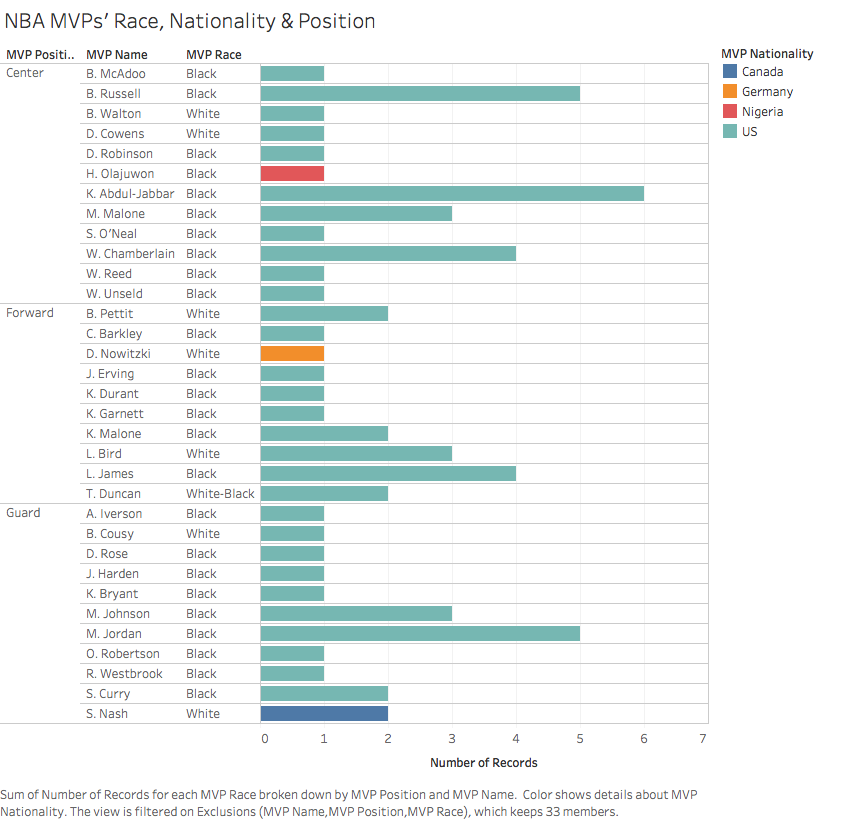

This screenshot's page, from the dashboard's own definition file:
{"tool":"tableau","page":{"name":"Dashboard 1","canvas":[1000,800],"ordinal":0},"visuals":[{"type":"worksheet","title":"Sheet 1","mark":"Automatic","rows":["Team"],"cols":[" Total Attendance"],"box":[8,8,824,784]},{"type":"legend","title":"Sheet 1","param":"[federated.00uhm0e1355ta71ero8c80fyin8d].[none:Starting Year:qk]","box":[832,8,160,65]}]}

Visuals, with their boxes on the page's 1000x800 design canvas (x1, y1, x2, y2). These are canvas units, not pixel positions in the 860x821 screenshot, which may show the page scaled, cropped or inside an application window:
"Sheet 1" worksheet: l=8, t=8, r=832, b=792
"Sheet 1" legend: l=832, t=8, r=992, b=73
